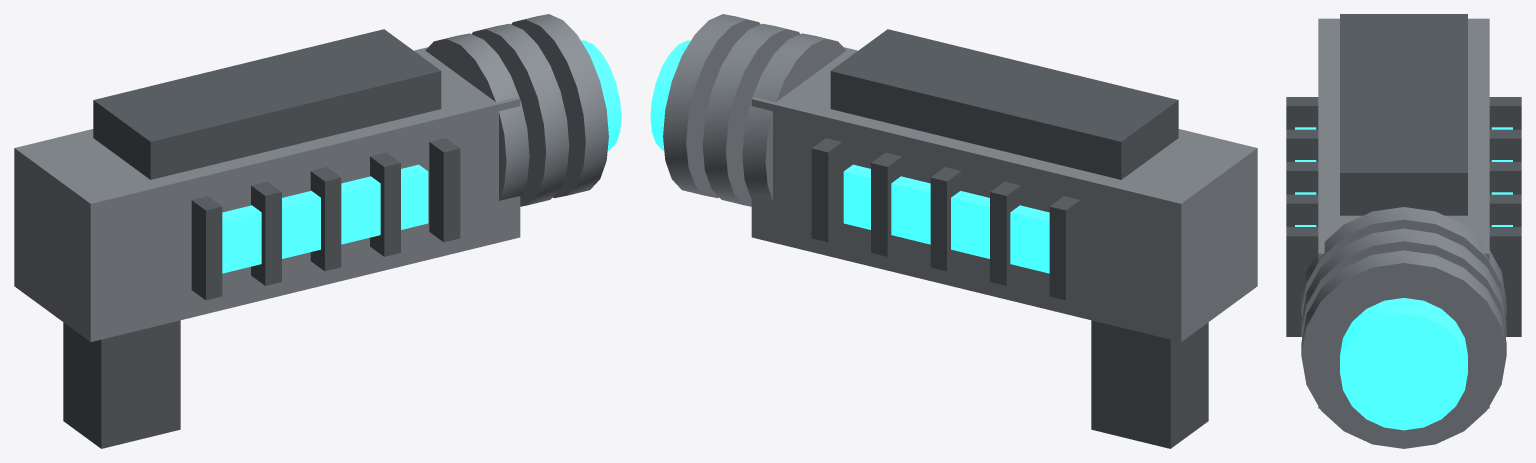
Rendered from futuristic_blaster.glb.
3 renders of one model, left to right at view 1: azimuth 30°, elevation 25°; view 2: azimuth 150°, elevation 25°; view 3: azimuth 270°, elevation 25°, orthographic. The views are drawn at different scales.
Visible parts, largest first — view 1: world; view 2: world; view 3: world.
Part boxes in pixels (<box>): world: <box>14,14,621,448</box>; world: <box>650,14,1257,448</box>; world: <box>1286,14,1521,448</box>.
Bounding box in the file's own units: 0.8175 × 0.44 × 0.275.
